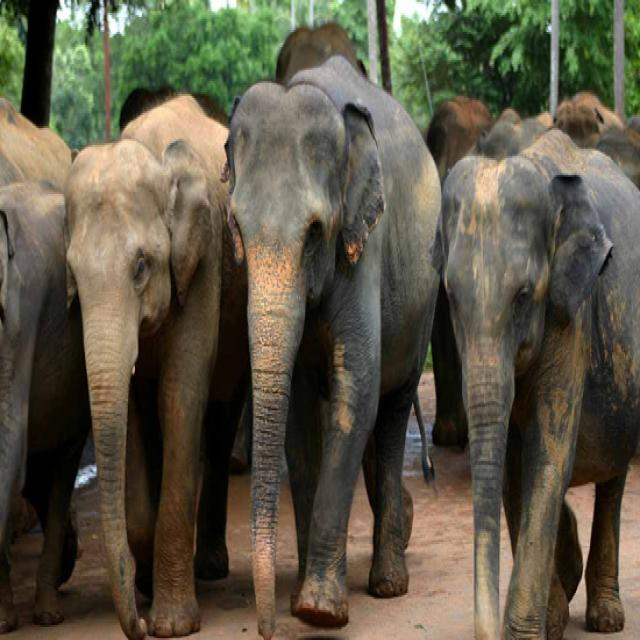Elephant: (226, 70, 438, 622), (442, 143, 639, 640), (66, 91, 238, 640)
